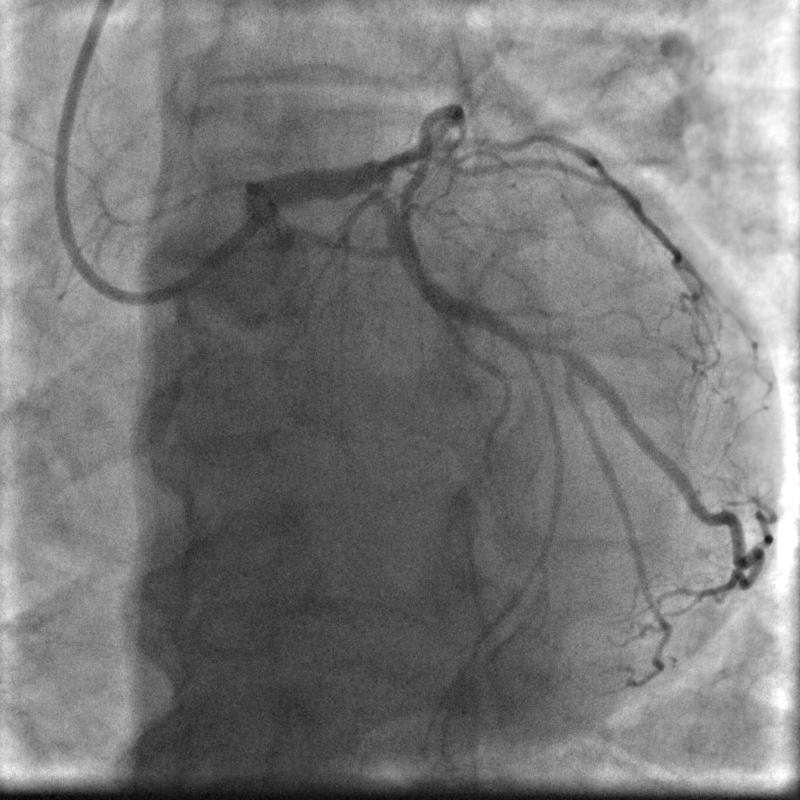Stenosis: (521, 337, 576, 366)
